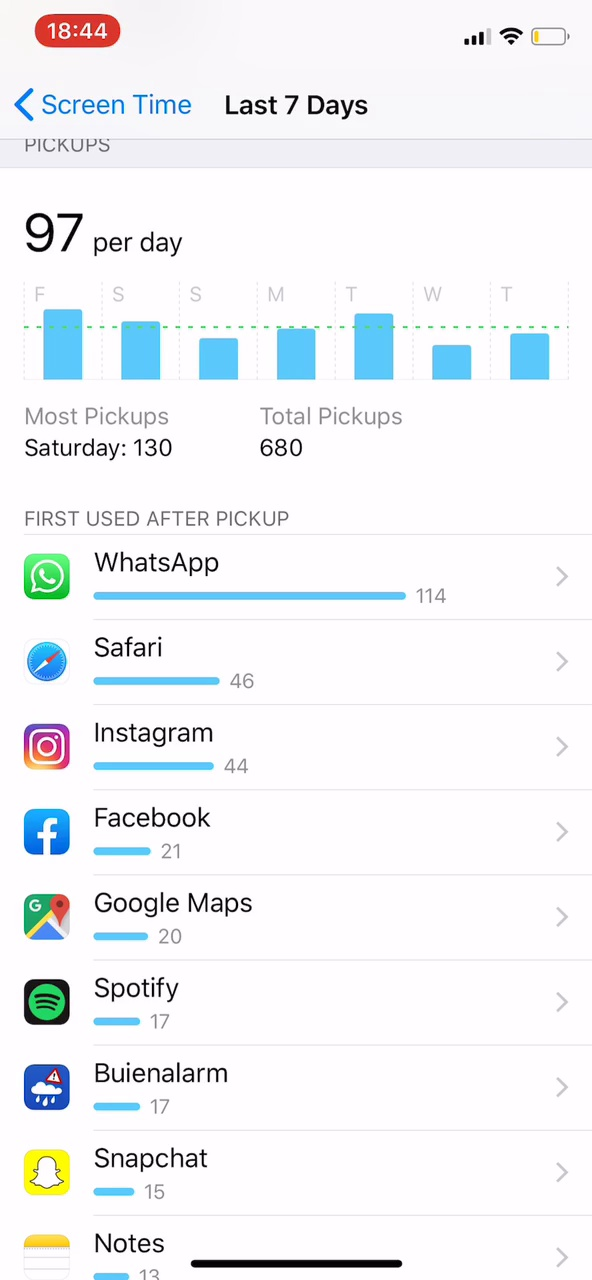pick_app: (11, 533, 458, 607), (9, 705, 303, 789), (12, 958, 280, 1046), (9, 621, 274, 701), (14, 879, 278, 958), (12, 793, 247, 874), (12, 1052, 258, 1127), (11, 1134, 237, 1214)
pick_over: (15, 396, 447, 486)
week: (219, 85, 380, 126)
